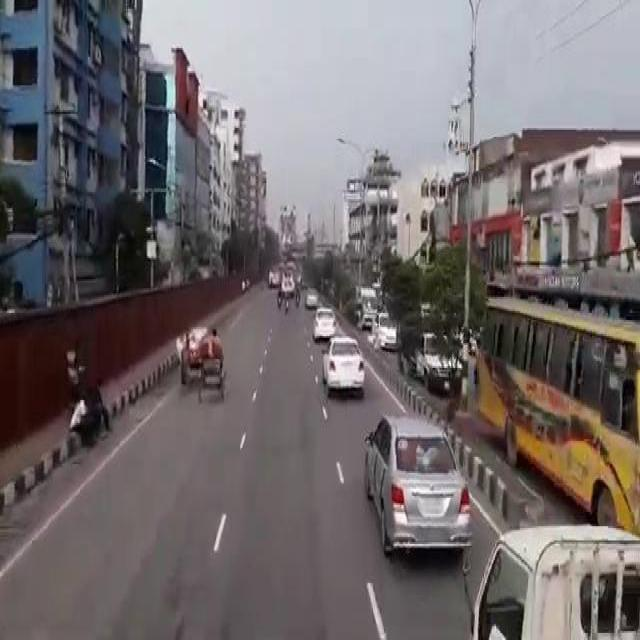10: (294, 294, 300, 308), (276, 294, 280, 307), (284, 298, 288, 310)
11: (464, 521, 638, 638)
13: (195, 331, 227, 402)
5: (363, 413, 473, 551), (320, 334, 364, 391), (311, 306, 337, 338), (374, 311, 396, 347)
Truck: (473, 292, 639, 526), (278, 260, 298, 292)
